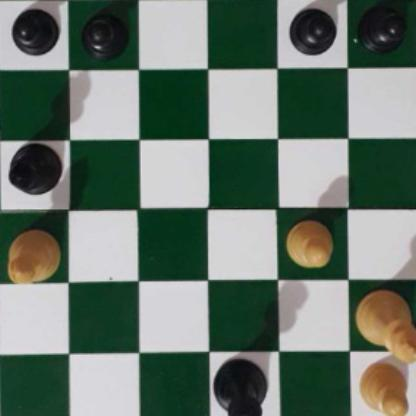black-bishop: (6, 141, 64, 198)
black-pawn: (287, 1, 336, 53), (80, 7, 127, 57), (10, 6, 57, 55), (359, 1, 406, 50)
black-queen: (214, 356, 267, 416)
white-bishop: (3, 230, 61, 286)
white-king: (353, 287, 416, 365)
white-pawn: (356, 361, 413, 416), (283, 215, 337, 270)
